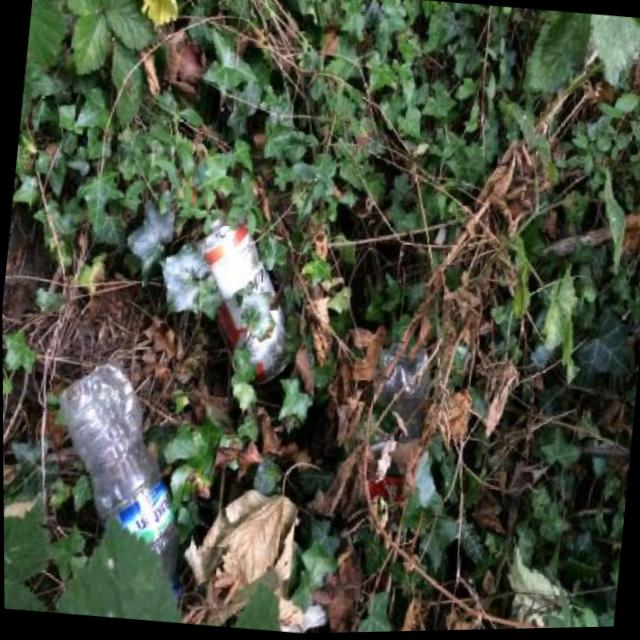metal: (188, 216, 307, 389)
plastic: (35, 354, 204, 605)
